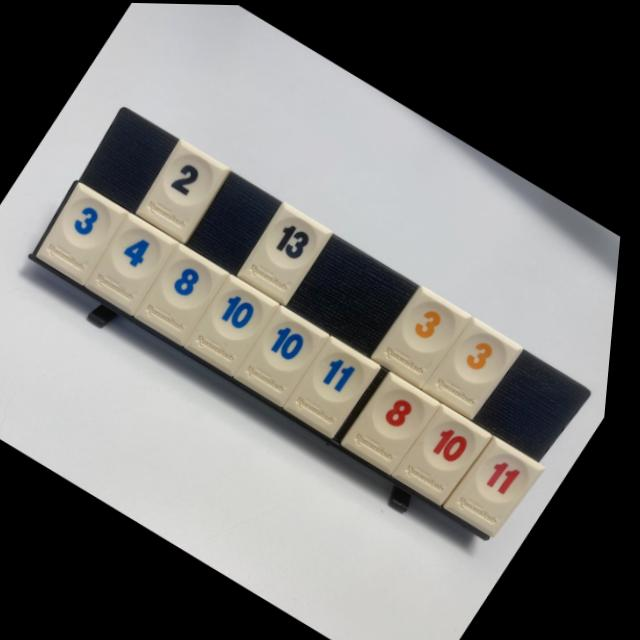black_13: (241, 200, 339, 305)
black_2: (139, 138, 234, 243)
blue_10: (240, 304, 335, 406), (190, 274, 284, 375)
blue_11: (291, 334, 386, 437)
blue_3: (41, 183, 133, 286)
blue_4: (90, 212, 184, 315)
blue_8: (140, 243, 234, 345)
orange_3: (376, 283, 478, 386), (429, 314, 529, 418)
red_10: (400, 402, 500, 504)
red_11: (452, 434, 554, 535)
red_8: (349, 371, 448, 474)
